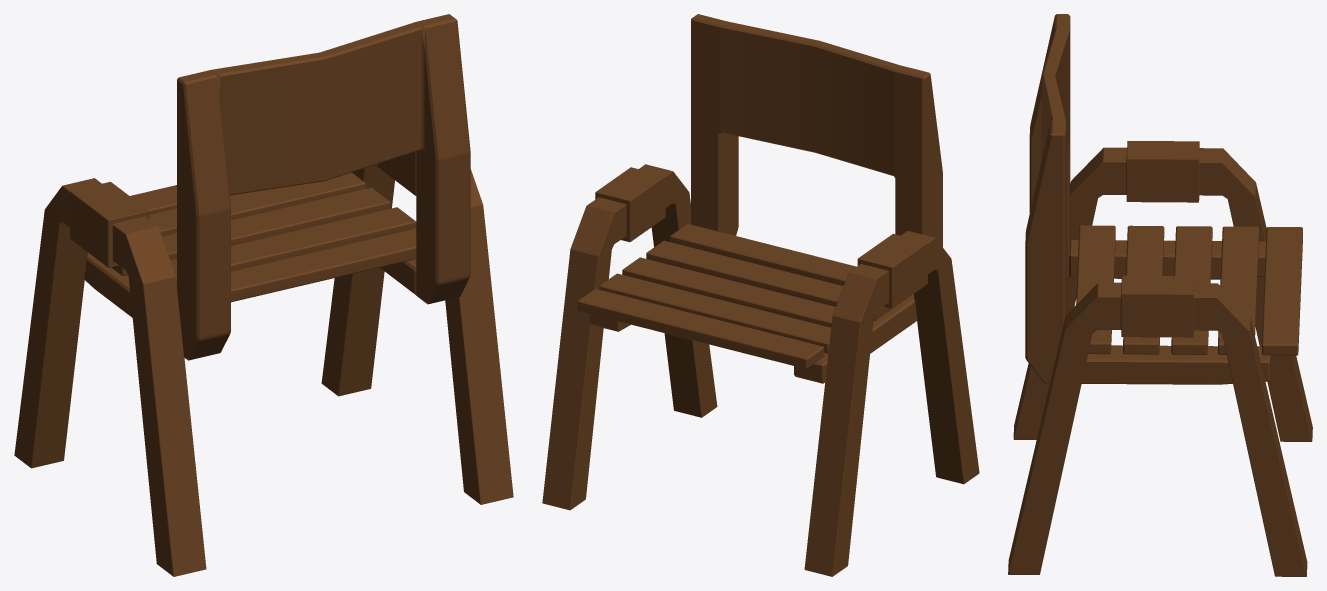
The model's file is chair.fbx.
3 renders of one model, left to right at view 1: azimuth 30°, elevation 25°; view 2: azimuth 150°, elevation 25°; view 3: azimuth 270°, elevation 25°, orthographic. The views are drawn at different scales.
Visible parts, largest first — view 1: pasted__polySurface18; view 2: pasted__polySurface18; view 3: pasted__polySurface18.
Part boxes in pixels (box(x1,y1,x2,y2)): pasted__polySurface18: box(14, 14, 513, 576); pasted__polySurface18: box(542, 14, 979, 576); pasted__polySurface18: box(1008, 14, 1312, 576).
Size of the model in its own units: 6.41 by 8.31 by 5.38.
